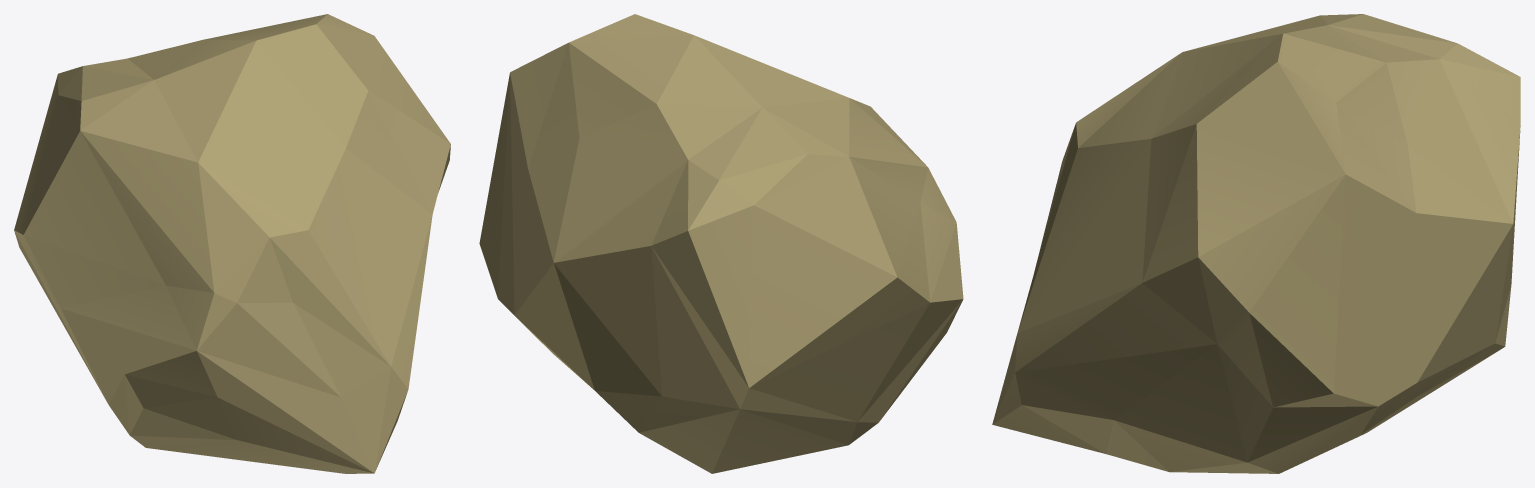
Rendered from SM_small_rock_02.fbx.
3 views of the same model, side by side, from view 1: azimuth 30°, elevation 25°; view 2: azimuth 150°, elevation 25°; view 3: azimuth 270°, elevation 25° (orthographic). The views are drawn at different scales.
Parts seen in each view (by area): view 1: small_rock_02; view 2: small_rock_02; view 3: small_rock_02.
Part boxes in pixels (box(x1,y1,x2,y2)): small_rock_02: box(14, 14, 450, 473); small_rock_02: box(479, 14, 963, 473); small_rock_02: box(992, 14, 1520, 473).
Size of the model in its own units: 33.57 by 30.87 by 33.87.
